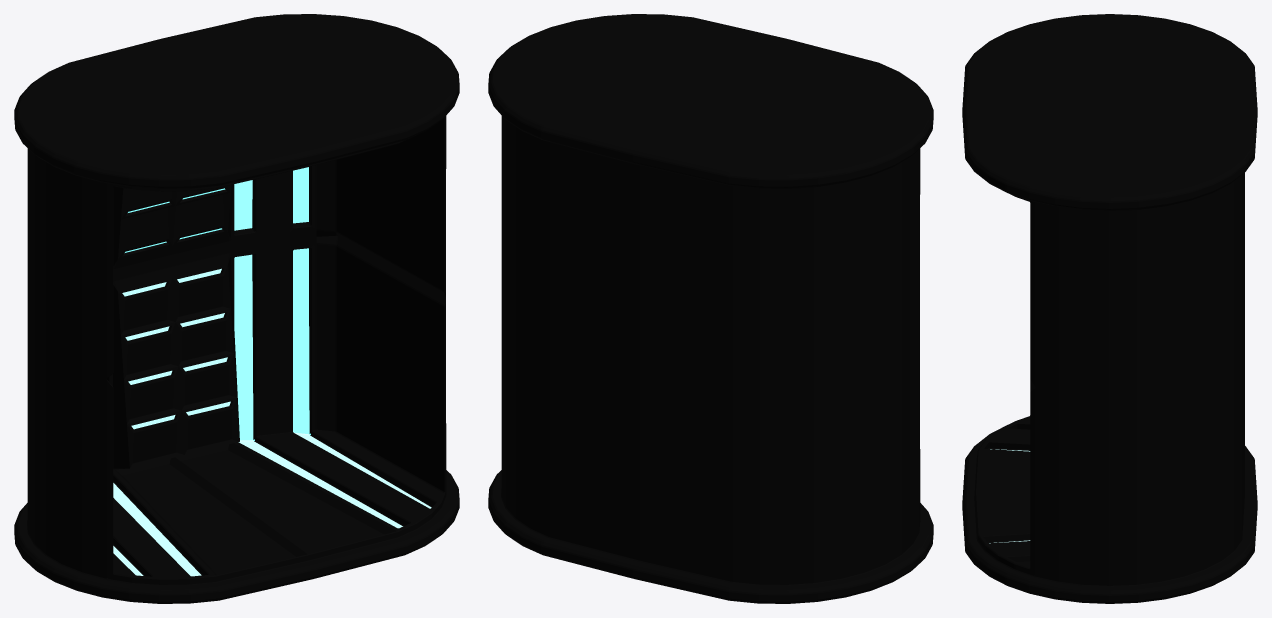
The model's file is heyta.fbx.
3 renders of one model, left to right at view 1: azimuth 30°, elevation 25°; view 2: azimuth 150°, elevation 25°; view 3: azimuth 270°, elevation 25°, orthographic. The views are drawn at different scales.
Visible parts, largest first — view 1: Cube; view 2: Cube; view 3: Cube.
Part boxes in pixels (x1,y1,x2,y2): Cube: [14, 14, 459, 603]; Cube: [488, 14, 933, 603]; Cube: [962, 14, 1257, 603].
Bounding box in the file's own units: 319 × 324 × 213.
